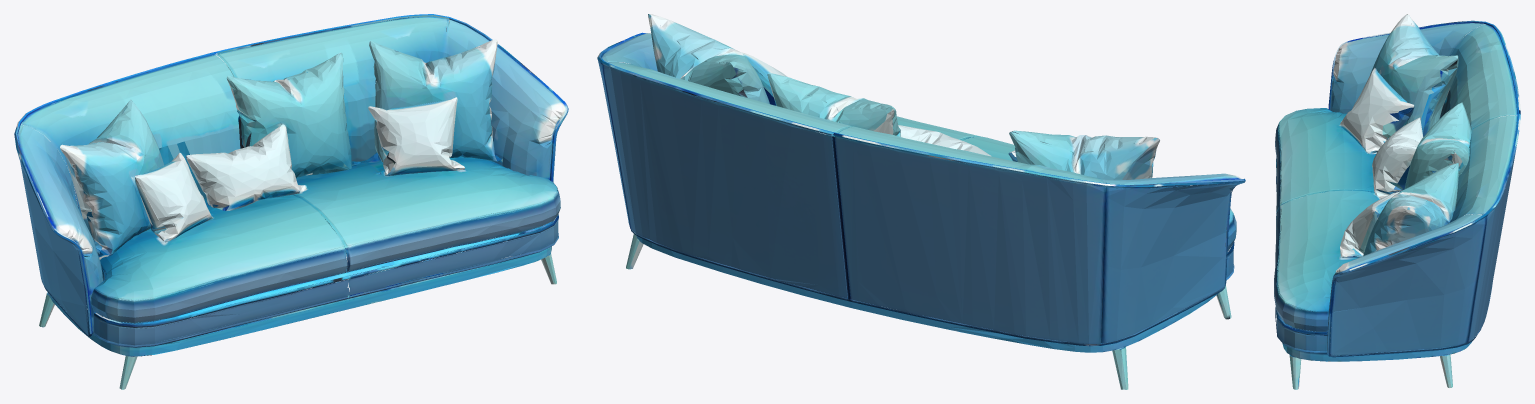
File: edited_mesh.glb
3 views of the same model, side by side, from view 1: azimuth 30°, elevation 25°; view 2: azimuth 150°, elevation 25°; view 3: azimuth 270°, elevation 25° (orthographic). The views are drawn at different scales.
Parts seen in each view (by area): view 1: solid_001_wire; view 2: solid_001_wire; view 3: solid_001_wire.
Boxes of the visible parts, left/top/right/bottom form: solid_001_wire: left=14, top=14, right=568, bottom=389; solid_001_wire: left=597, top=14, right=1245, bottom=389; solid_001_wire: left=1274, top=14, right=1520, bottom=389.
Size of the model in its own units: 2 by 0.7466 by 0.909.
1 material, 1 textured.
